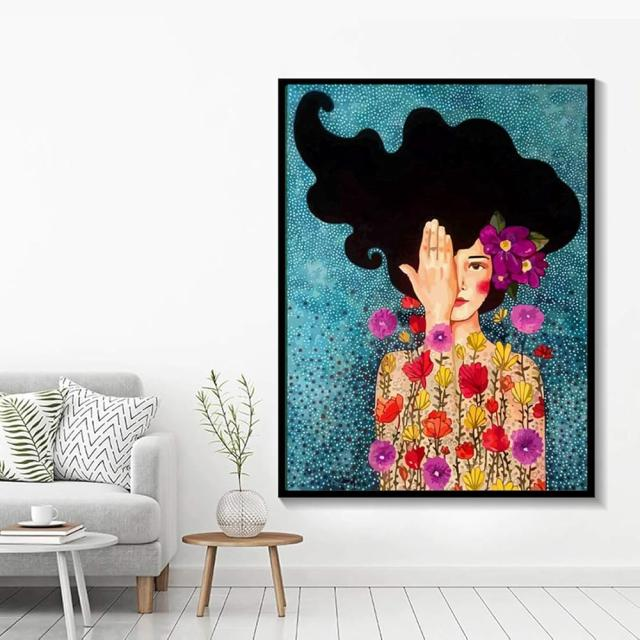painting: (278, 78, 597, 498)
